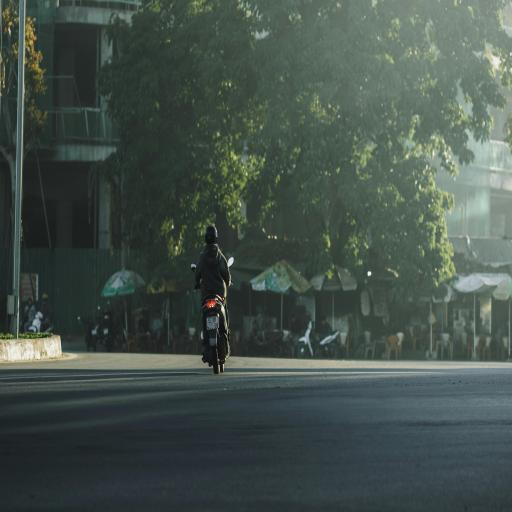place: (205, 316, 219, 330)
